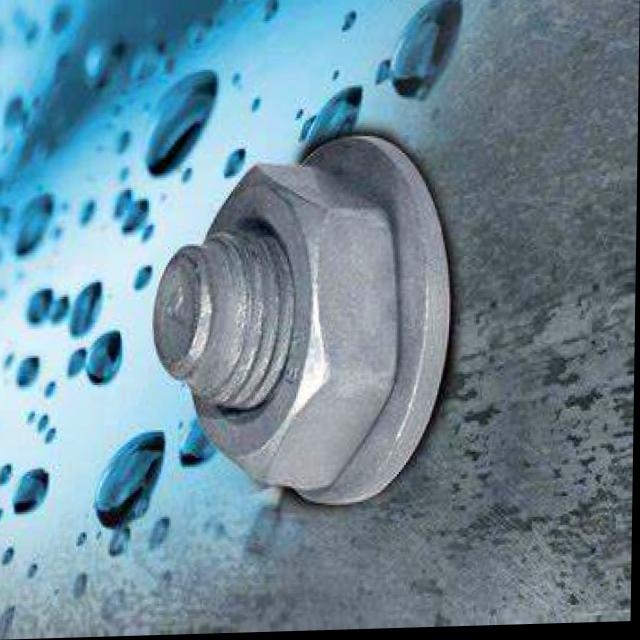Regular bolt: (162, 162, 394, 499)
